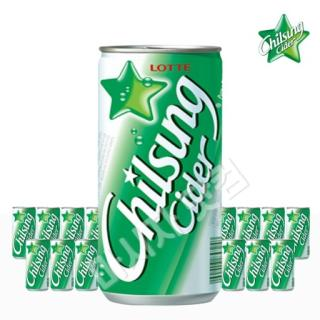chilsung: (97, 42, 226, 305), (245, 237, 271, 292), (25, 237, 50, 293), (74, 236, 98, 292), (270, 239, 294, 293), (50, 239, 74, 292), (222, 239, 243, 293)
